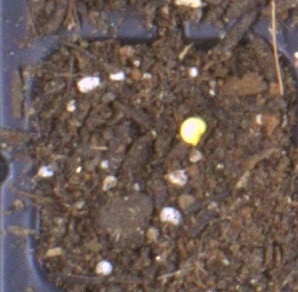chilli seed: (179, 116, 207, 147)
